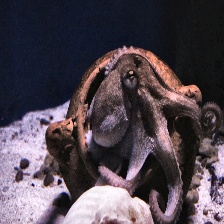octopus: (56, 44, 204, 224)
